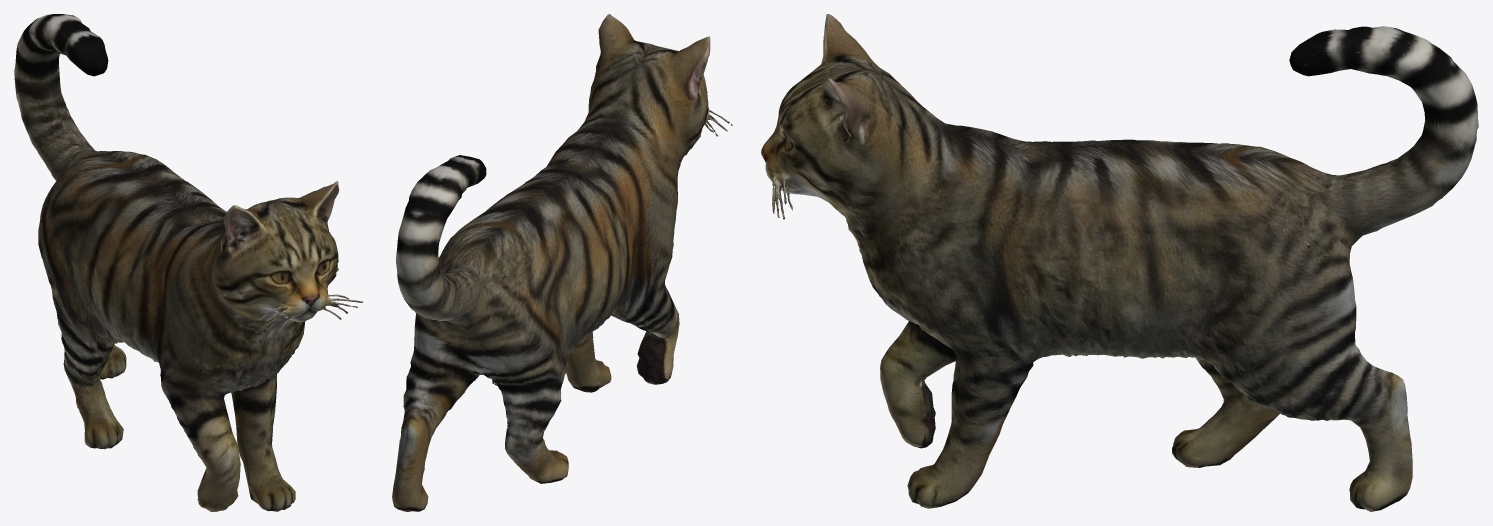
File: cat.glb
3 views of the same model, side by side, from view 1: azimuth 30°, elevation 25°; view 2: azimuth 150°, elevation 25°; view 3: azimuth 270°, elevation 25° (orthographic). The views are drawn at different scales.
Size of the model in its own units: 0.5 by 1.34 by 1.91.
1 material, 1 textured.
